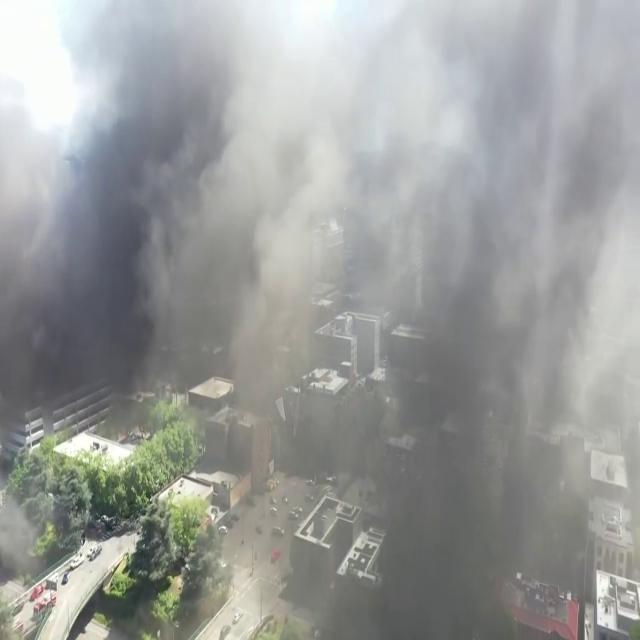Smoke: (239, 0, 638, 640), (0, 0, 296, 425)
